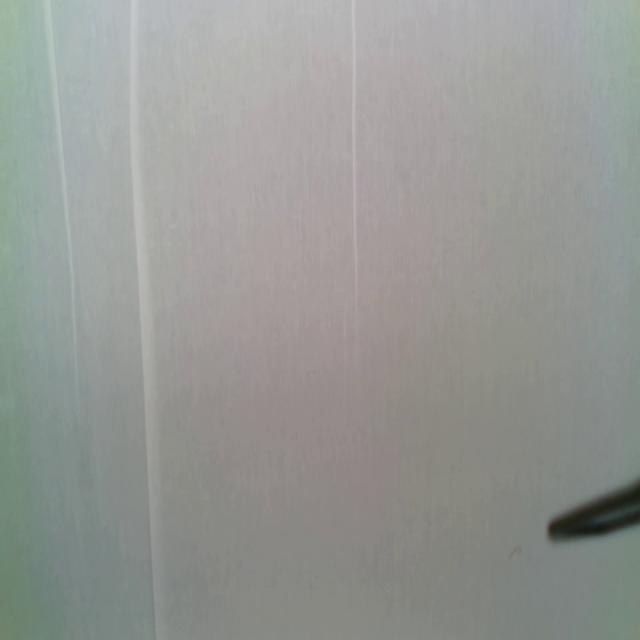crease: (129, 0, 158, 637), (43, 0, 80, 421), (350, 0, 360, 353)
